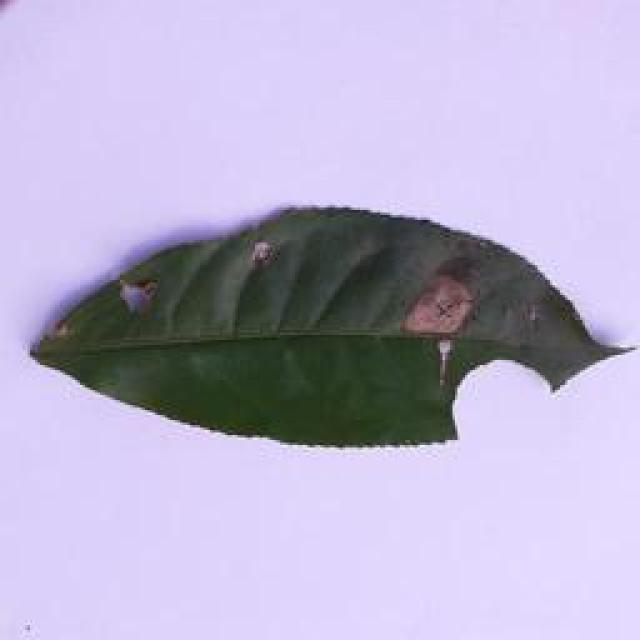Gray Blight: (11, 201, 640, 456)
